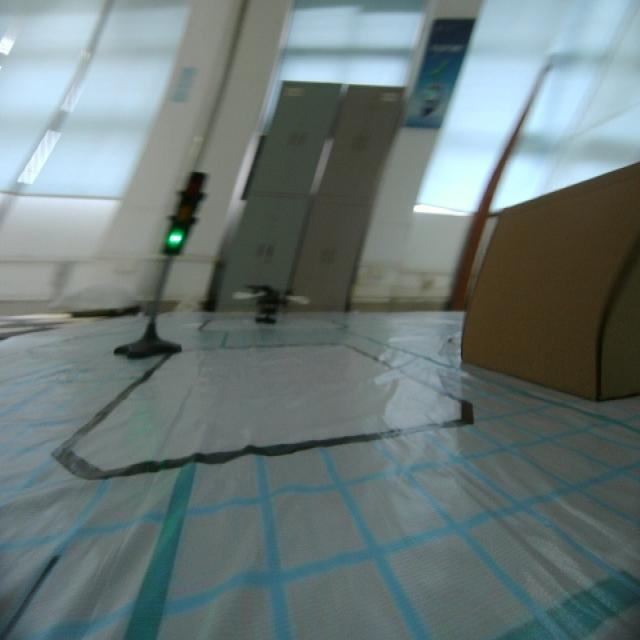green: (163, 164, 210, 263)
